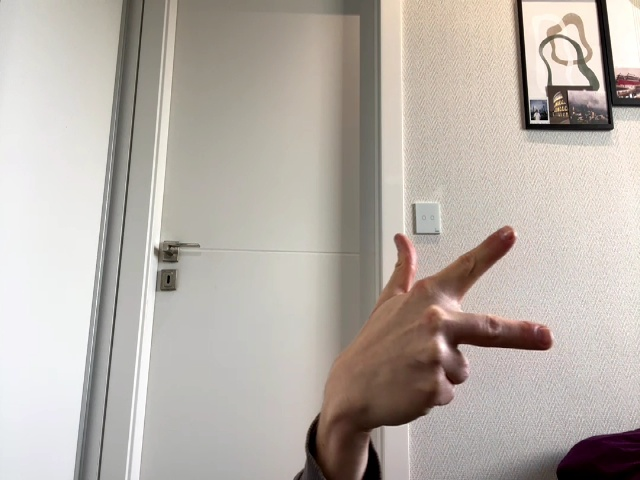K: (337, 225, 554, 435)
